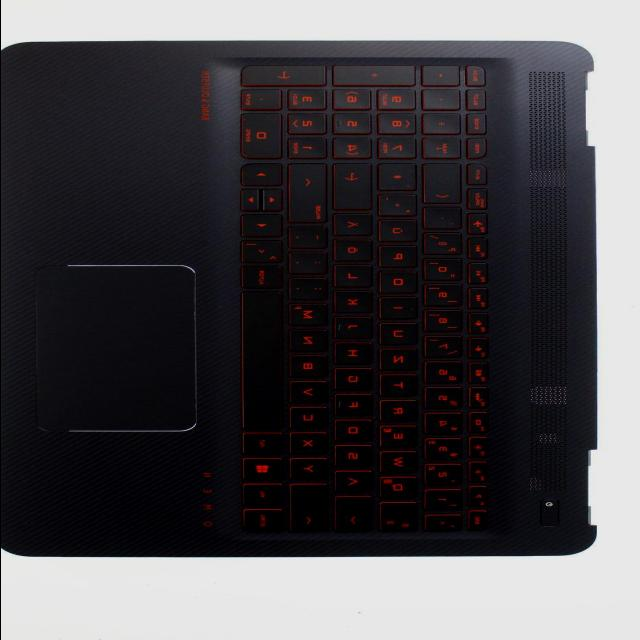0: (426, 259, 466, 283)
1: (426, 490, 466, 512)
2: (426, 465, 466, 488)
3: (426, 440, 466, 463)
4: (426, 414, 466, 436)
5: (426, 389, 466, 411)
6: (426, 363, 466, 385)
7: (426, 337, 466, 359)
8: (426, 312, 466, 334)
9: (426, 285, 466, 308)
a: (337, 472, 378, 495)
accent: (426, 209, 466, 231)
ae: (335, 215, 377, 237)
alt-left: (245, 434, 287, 456)
altgr-right: (242, 267, 287, 291)
b: (291, 356, 332, 380)
c: (291, 407, 332, 431)
caret: (426, 516, 466, 534)
comma: (291, 279, 332, 302)
d: (336, 421, 378, 443)
del: (426, 165, 467, 205)
e: (382, 426, 423, 450)
enter: (335, 164, 376, 212)
f: (337, 396, 378, 418)
g: (337, 369, 378, 393)
h: (336, 344, 377, 366)
hash: (380, 165, 420, 193)
i: (382, 298, 423, 321)
j: (337, 318, 378, 340)
k: (336, 292, 377, 315)
keyboard: (224, 59, 518, 539)
l: (336, 267, 377, 289)
less: (242, 242, 287, 266)
m: (291, 304, 332, 328)
minus: (291, 228, 331, 251)
n: (291, 330, 332, 354)
o: (381, 272, 422, 296)
oe: (335, 241, 376, 264)
p: (381, 247, 422, 270)
plus: (381, 196, 422, 218)
point: (291, 253, 331, 276)
q: (381, 478, 423, 502)
r: (382, 401, 423, 424)
s: (337, 447, 378, 469)
shift-left: (291, 485, 333, 535)
shift-lock: (337, 498, 378, 535)
shift-right: (291, 165, 331, 225)
space: (242, 293, 287, 432)
ss: (426, 235, 466, 257)
strg-left: (245, 510, 288, 535)
t: (382, 375, 423, 398)
tab: (382, 503, 423, 535)
u: (381, 324, 423, 347)
ue: (381, 222, 422, 244)
v: (291, 382, 333, 405)
w: (381, 452, 423, 476)
x: (291, 434, 332, 456)
y: (291, 459, 333, 481)
z: (382, 349, 423, 372)
